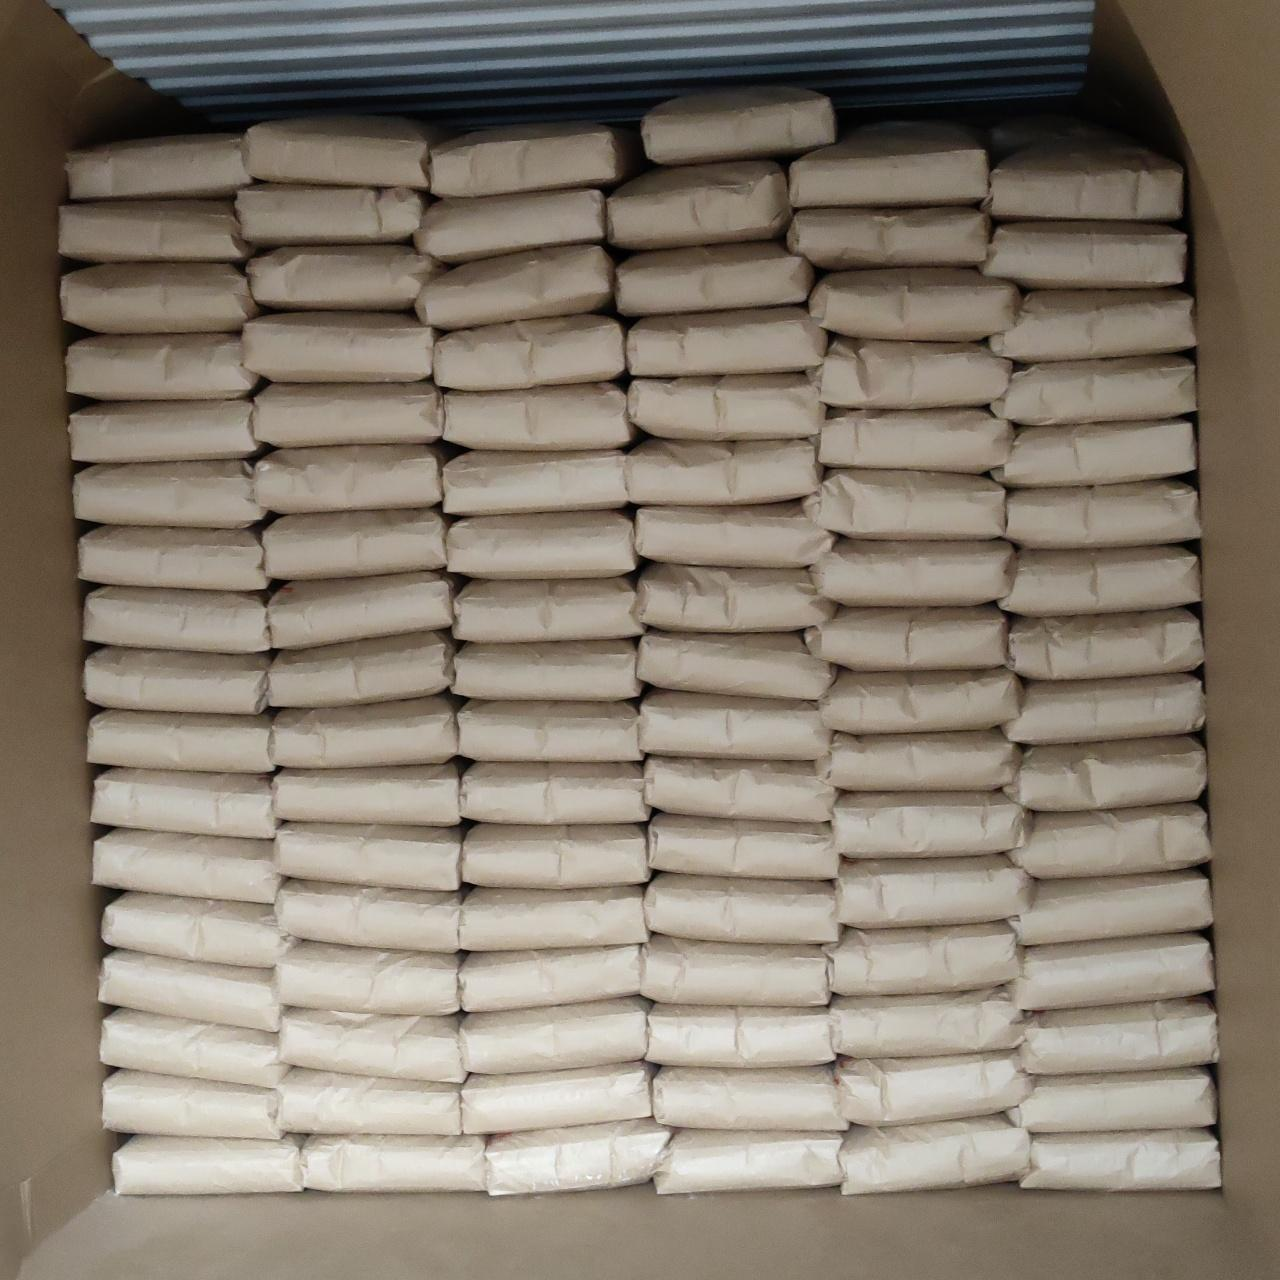sack: (985, 130, 1183, 222), (790, 121, 989, 207), (415, 246, 613, 329), (607, 161, 790, 248), (431, 122, 642, 196), (641, 86, 835, 165), (811, 267, 1020, 340), (990, 288, 1196, 362), (1012, 934, 1212, 1009), (1012, 870, 1212, 945), (1009, 803, 1210, 878), (98, 949, 281, 1032), (1021, 998, 1218, 1074), (839, 1116, 1029, 1194), (615, 241, 813, 316), (1006, 736, 1205, 810), (101, 1009, 287, 1088), (835, 1050, 1032, 1124), (433, 315, 625, 390), (459, 998, 648, 1074), (243, 116, 443, 188), (811, 338, 1012, 409), (838, 855, 1032, 928), (102, 893, 293, 967), (627, 306, 828, 376), (1002, 674, 1203, 744), (998, 546, 1200, 615), (91, 829, 280, 903), (268, 632, 454, 707), (268, 571, 454, 646), (828, 922, 1019, 995), (990, 355, 1194, 423), (462, 1062, 655, 1133), (415, 190, 605, 263), (243, 311, 434, 382), (279, 1009, 467, 1082), (804, 470, 1005, 538), (982, 222, 1186, 288), (486, 1121, 670, 1194), (811, 539, 1014, 606), (275, 879, 462, 952), (1009, 1068, 1216, 1133), (61, 263, 257, 332), (1009, 608, 1201, 679), (636, 564, 835, 632), (638, 631, 835, 699), (990, 420, 1194, 485), (640, 935, 830, 1006), (831, 988, 1023, 1057), (805, 605, 1007, 670), (819, 668, 1021, 734), (275, 942, 459, 1014), (645, 874, 838, 942), (74, 459, 266, 527), (271, 696, 459, 765), (1006, 481, 1200, 547), (639, 692, 830, 760), (91, 768, 275, 838), (636, 502, 833, 567), (256, 445, 445, 513), (263, 509, 445, 579), (274, 822, 462, 890), (67, 334, 260, 400), (819, 408, 1013, 474), (247, 245, 443, 309), (832, 792, 1024, 858), (443, 383, 634, 449), (648, 813, 839, 879), (64, 134, 252, 200), (628, 373, 822, 437), (83, 586, 270, 653), (626, 440, 818, 504), (448, 511, 636, 577), (452, 577, 644, 641), (787, 207, 988, 268), (59, 199, 252, 263), (79, 525, 268, 590), (86, 647, 268, 714), (655, 1065, 847, 1129), (234, 184, 425, 247), (818, 730, 1020, 790), (70, 399, 260, 462), (645, 1003, 835, 1067), (645, 757, 835, 821), (655, 1130, 842, 1194), (277, 1068, 459, 1133), (461, 945, 640, 1012), (102, 1070, 280, 1137), (272, 762, 459, 825), (254, 383, 442, 447), (459, 886, 647, 949), (463, 823, 649, 886), (461, 762, 649, 824), (443, 451, 628, 515), (457, 699, 642, 762), (1021, 1130, 1220, 1189), (87, 710, 273, 772), (452, 640, 642, 700), (113, 1136, 302, 1194), (301, 1136, 485, 1192)
